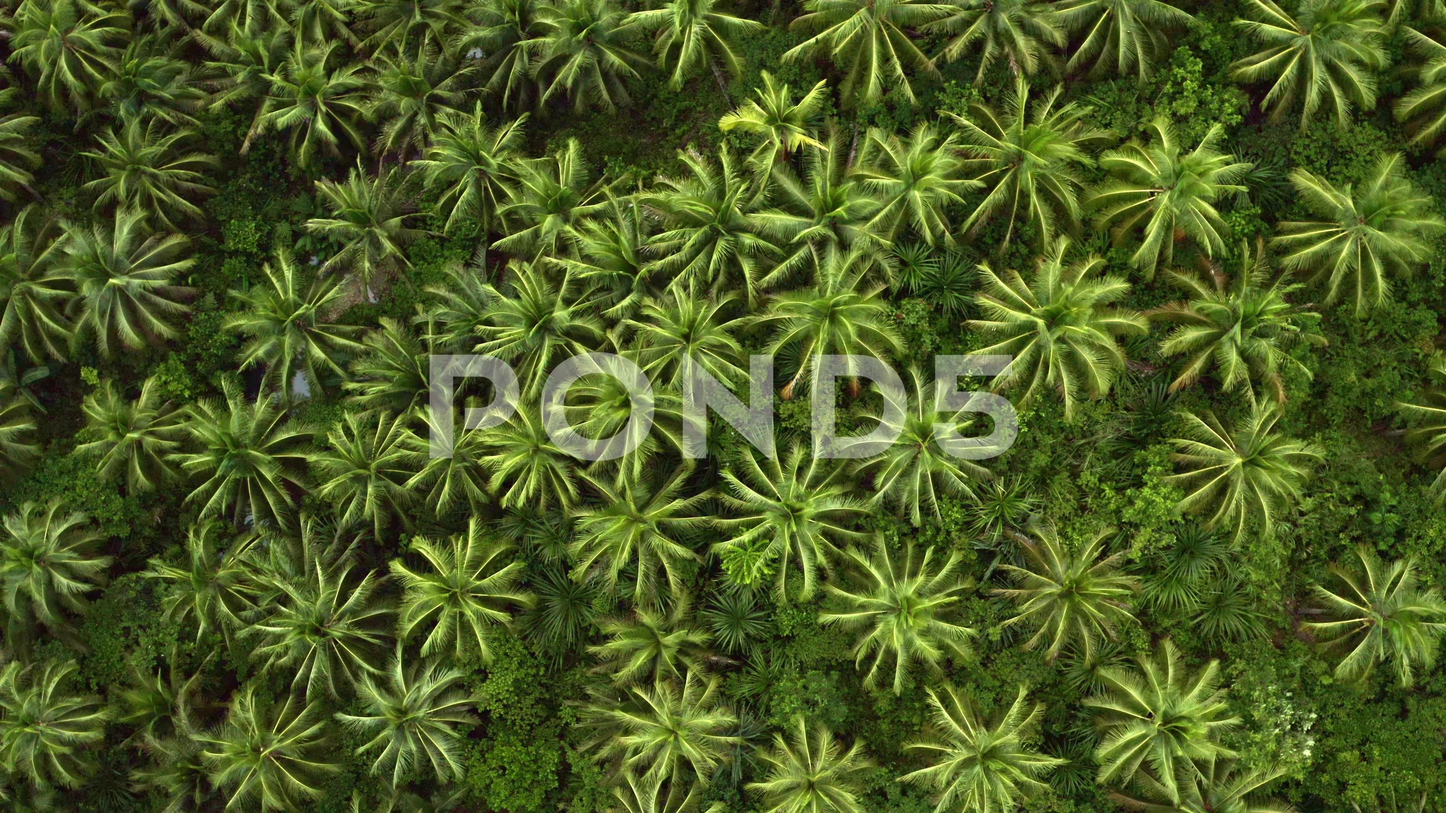coconut_tree: (711, 434, 877, 603), (1275, 158, 1443, 314), (979, 248, 1134, 416), (981, 512, 1149, 656), (830, 540, 987, 694), (1086, 645, 1243, 791), (326, 649, 494, 784), (1168, 399, 1317, 549), (1092, 126, 1243, 273), (955, 93, 1097, 247), (1312, 539, 1446, 696), (559, 465, 711, 603), (1161, 253, 1303, 397), (903, 682, 1062, 808), (44, 213, 199, 342), (1236, 1, 1389, 131), (648, 141, 781, 274), (788, 1, 950, 108), (768, 263, 907, 387), (3, 651, 117, 801), (203, 687, 341, 810), (387, 538, 535, 652), (478, 258, 609, 379), (218, 251, 345, 374), (0, 486, 109, 623), (192, 390, 305, 518), (525, 0, 661, 102), (74, 384, 190, 499), (616, 677, 739, 785), (146, 526, 258, 643), (859, 122, 966, 241), (309, 172, 423, 280), (638, 286, 745, 394), (432, 108, 538, 215), (1045, 3, 1187, 80), (270, 57, 377, 151), (13, 5, 119, 99), (80, 134, 203, 215), (774, 164, 877, 257)
